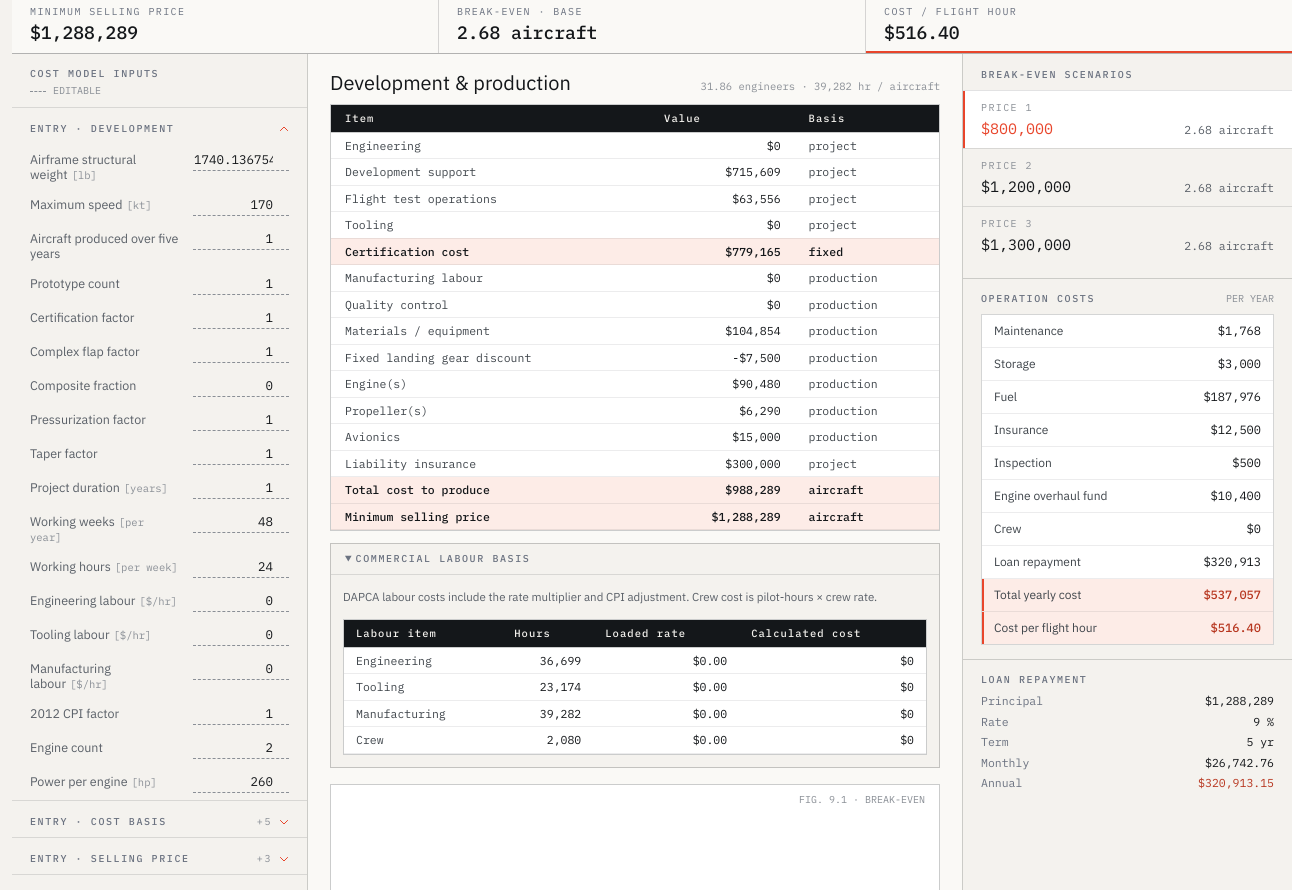
renders backend results and blocks incomplete inputs
Expected: the heading "Development & production" is shown, [330, 72, 571, 94]
Expected: the table named "Commercial labour basis" shows "Manufacturing", [356, 706, 446, 720]
Clear the number field labelled "Airframe structural weight[lb]" at {"x": 241, "y": 161}, box [193, 151, 289, 171]
(page scrolled)
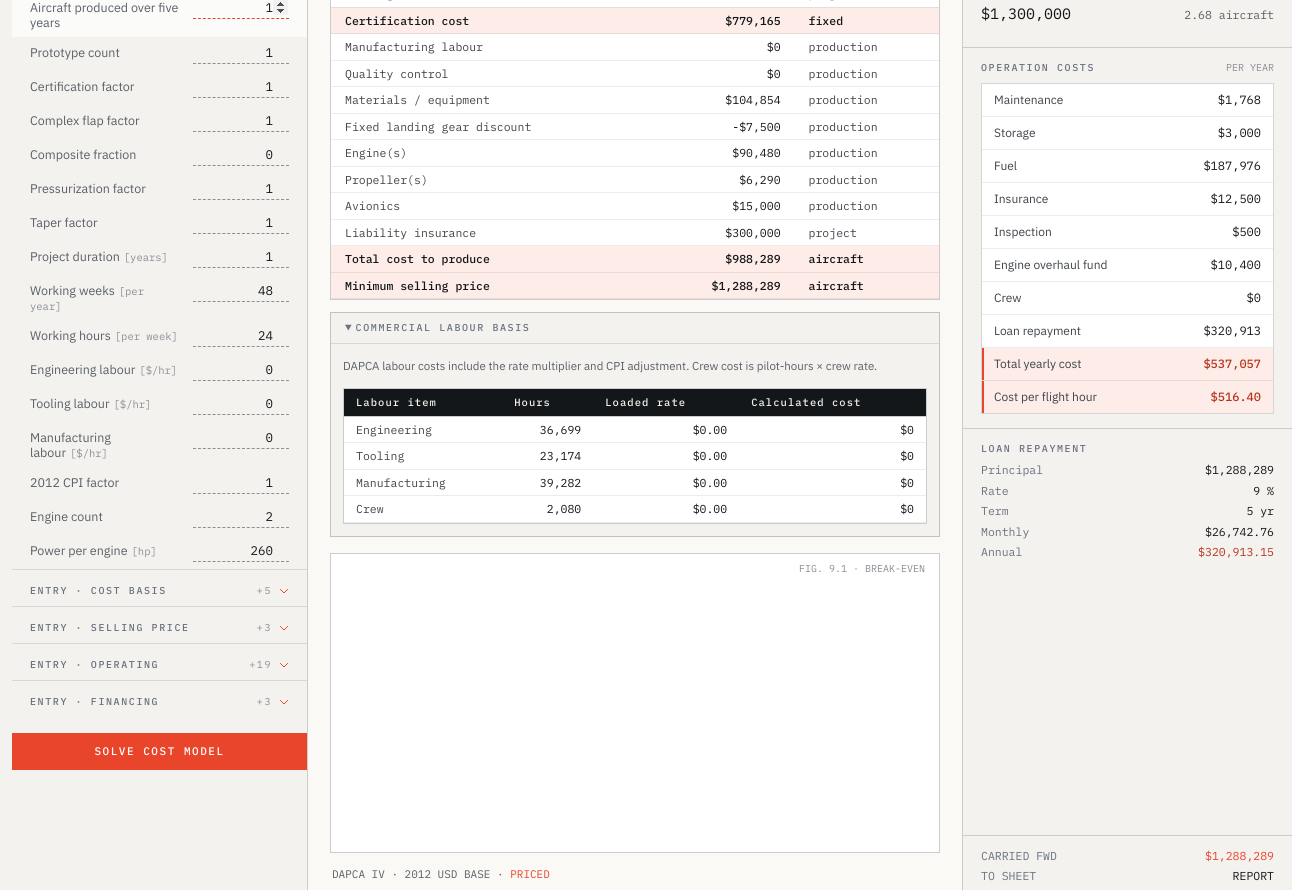
Click the button "SOLVE COST MODEL" at {"x": 160, "y": 752}, box [12, 733, 307, 770]
(page scrolled)
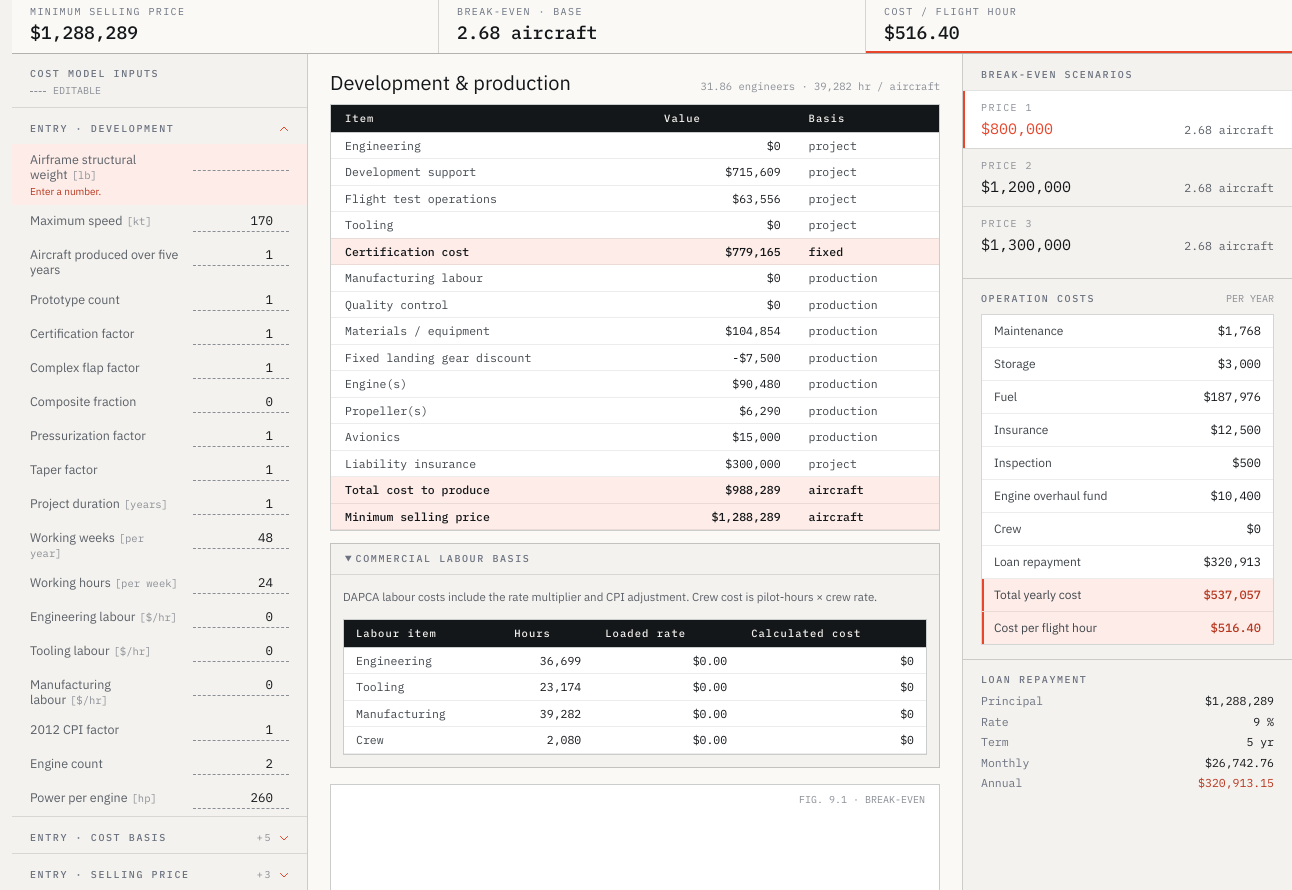
Expected: the text "Enter a number." is shown, [30, 185, 101, 198]
